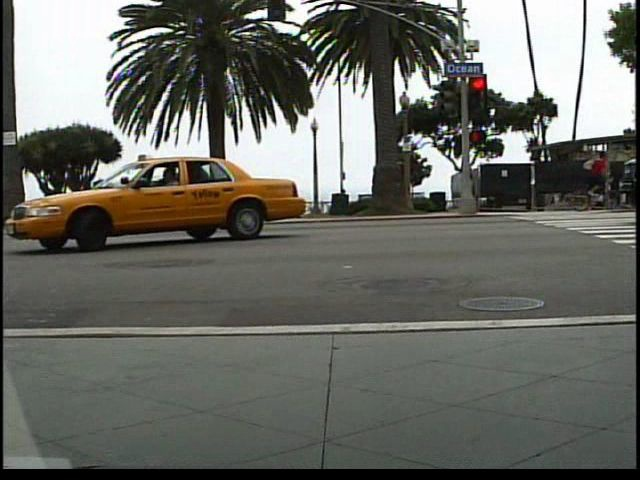person: (577, 151, 607, 204)
